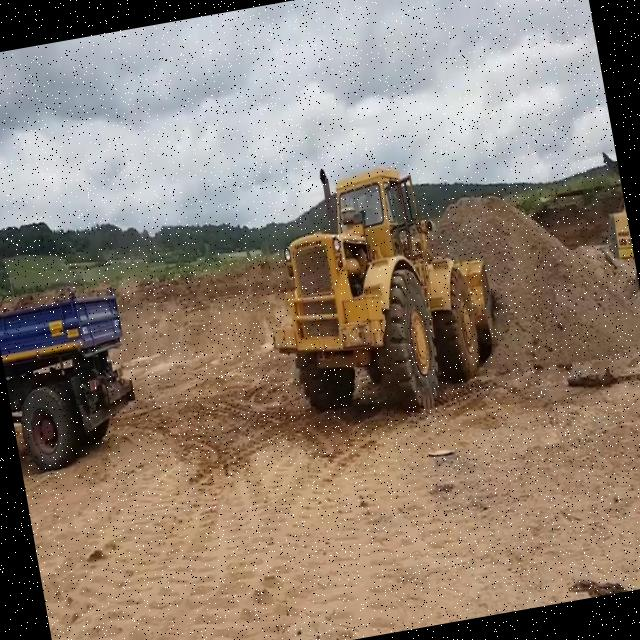Dump Truck: (0, 260, 149, 481)
Loader: (240, 137, 510, 440)
